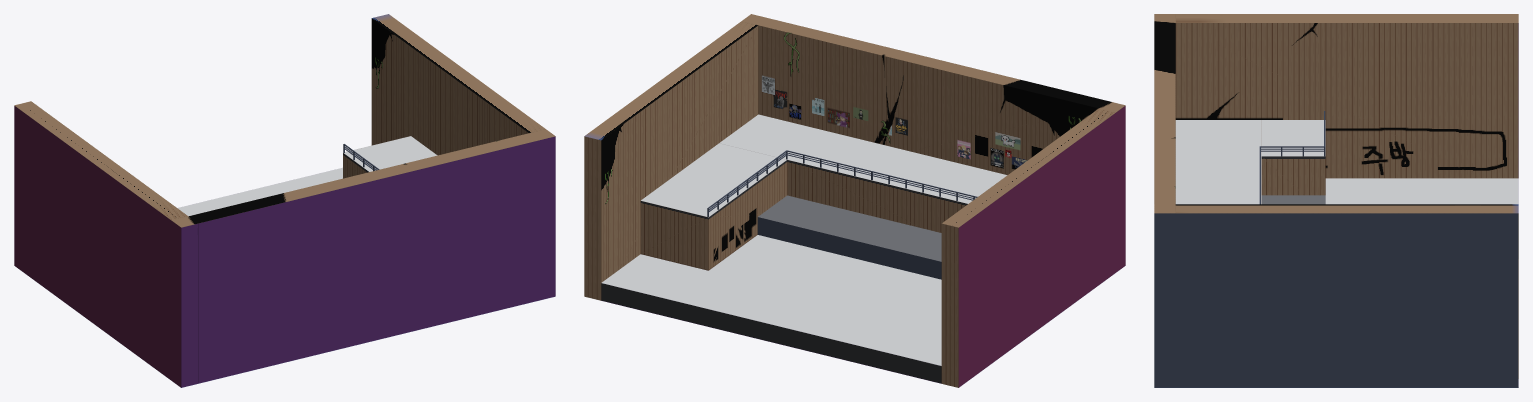
File: house3.fbx
The picture shows the model from 3 angles, left to right: view 1: azimuth 30°, elevation 25°; view 2: azimuth 150°, elevation 25°; view 3: azimuth 270°, elevation 25°; orthographic projection. The views are drawn at different scales.
Visible parts, largest first — view 1: mesh_1, mesh_3, mesh_2; view 2: mesh_1, mesh_2, mesh_3, mesh, mesh_4; view 3: mesh_1, mesh_3, mesh_2, mesh, mesh_4.
Part boxes in pixels (x1=…): mesh_1: x1=14, y1=14, x2=555, y2=387; mesh_3: x1=343, y1=136, x2=437, y2=178; mesh_2: x1=177, y1=167, x2=342, y2=216; mesh_1: x1=584, y1=14, x2=1125, y2=387; mesh_2: x1=601, y1=235, x2=941, y2=383; mesh_3: x1=640, y1=114, x2=1007, y2=270; mesh: x1=757, y1=195, x2=941, y2=279; mesh_4: x1=707, y1=150, x2=977, y2=216; mesh_1: x1=1154, y1=14, x2=1518, y2=387; mesh_3: x1=1175, y1=120, x2=1325, y2=204; mesh_2: x1=1325, y1=178, x2=1518, y2=204; mesh: x1=1261, y1=195, x2=1325, y2=204; mesh_4: x1=1259, y1=111, x2=1325, y2=204.
Size of the model in its own units: 2200 by 900 by 1700.
Materials: 4 (4 with a texture image).
